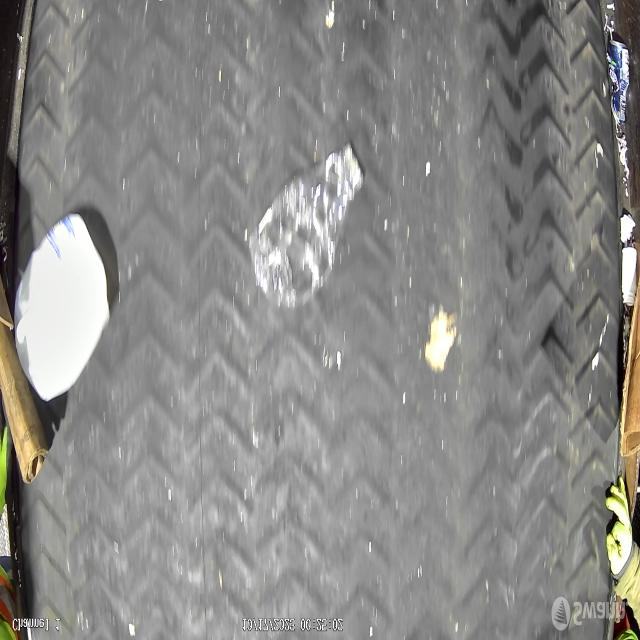can: (609, 39, 630, 128)
milk_jug: (15, 210, 111, 408)
plastic_bottle: (250, 140, 367, 311)
